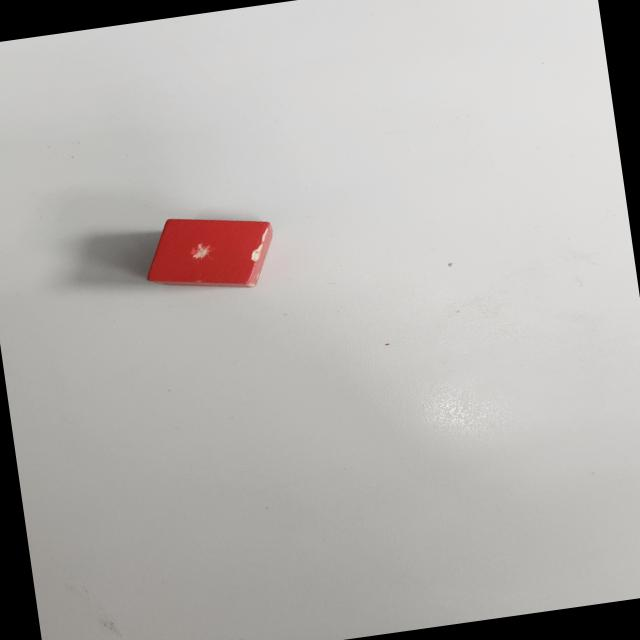broken: (141, 204, 281, 301)
